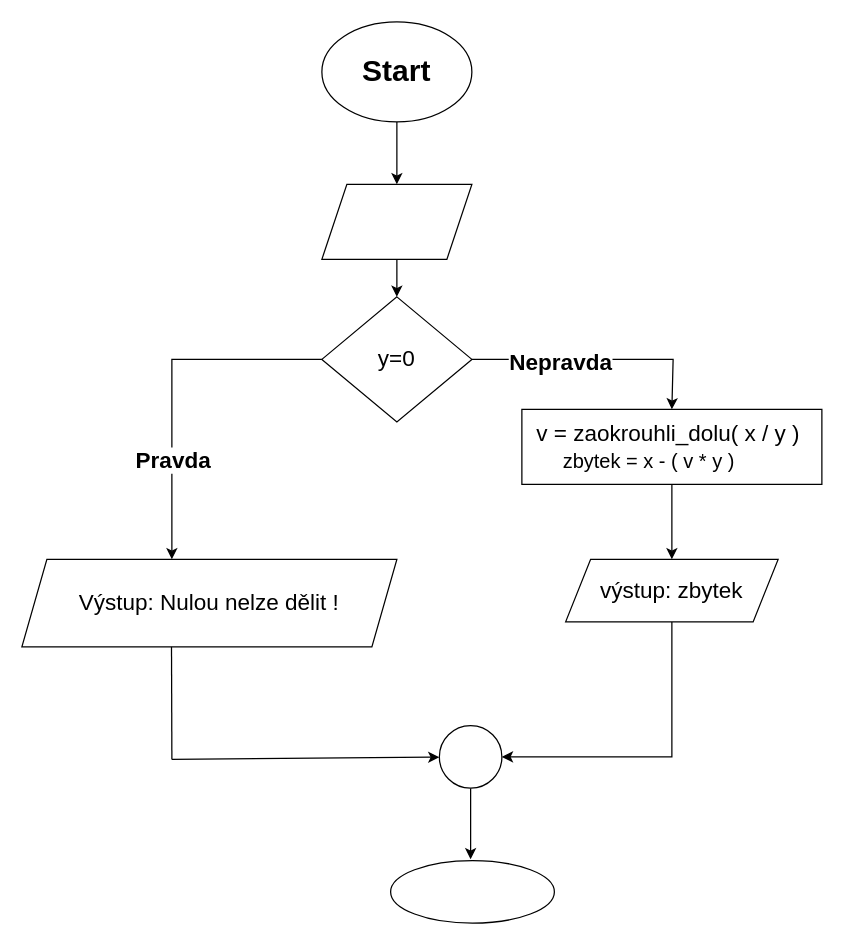
The diagram is 844 pixels wide and 945 high, and some of its shapes have lost their labels. The centre of each missing label's shape, as x and y in pixels:
"Konec" goes at (471,891).
"vstup x,y" goes at (396,221).
